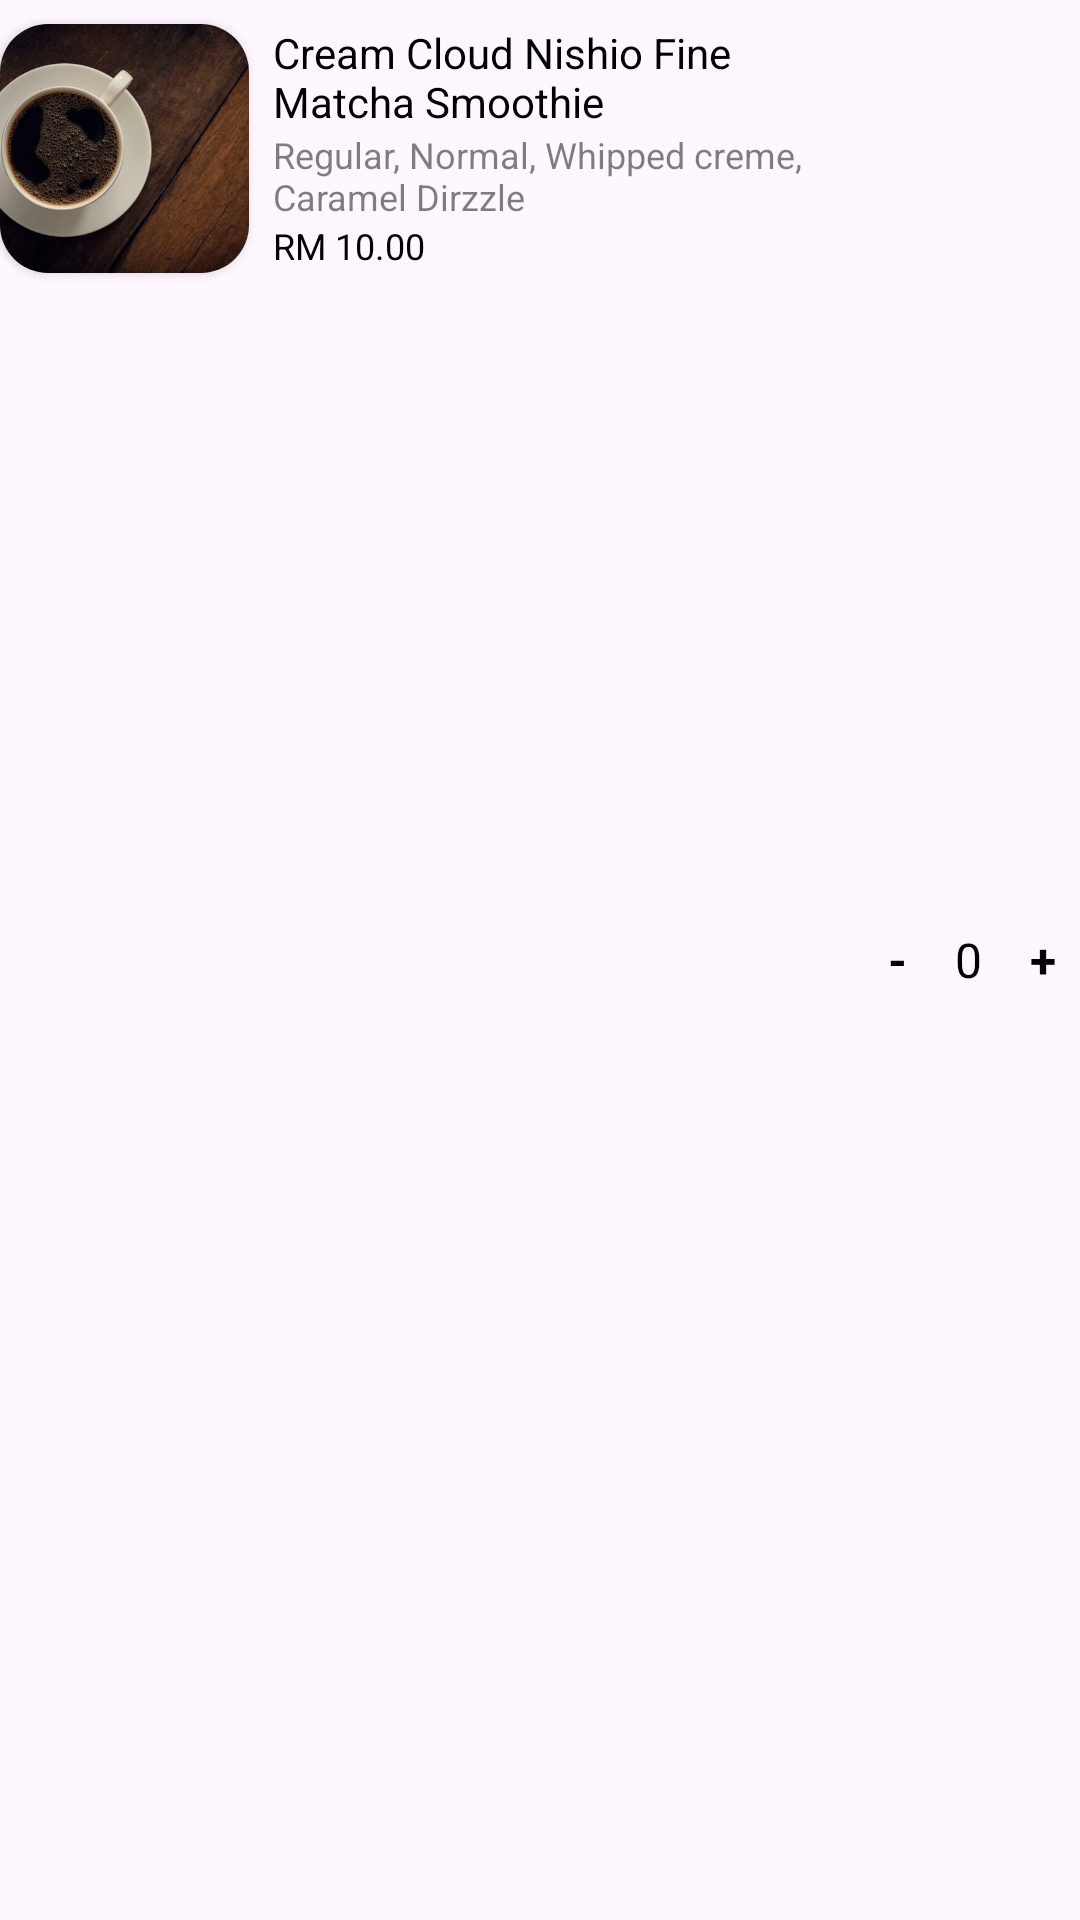

Locate icon controls on the screen. Image size 1080w x 1920h, boxes as (x1, y1, x2, y2).
coffee: (0, 24, 249, 273)
